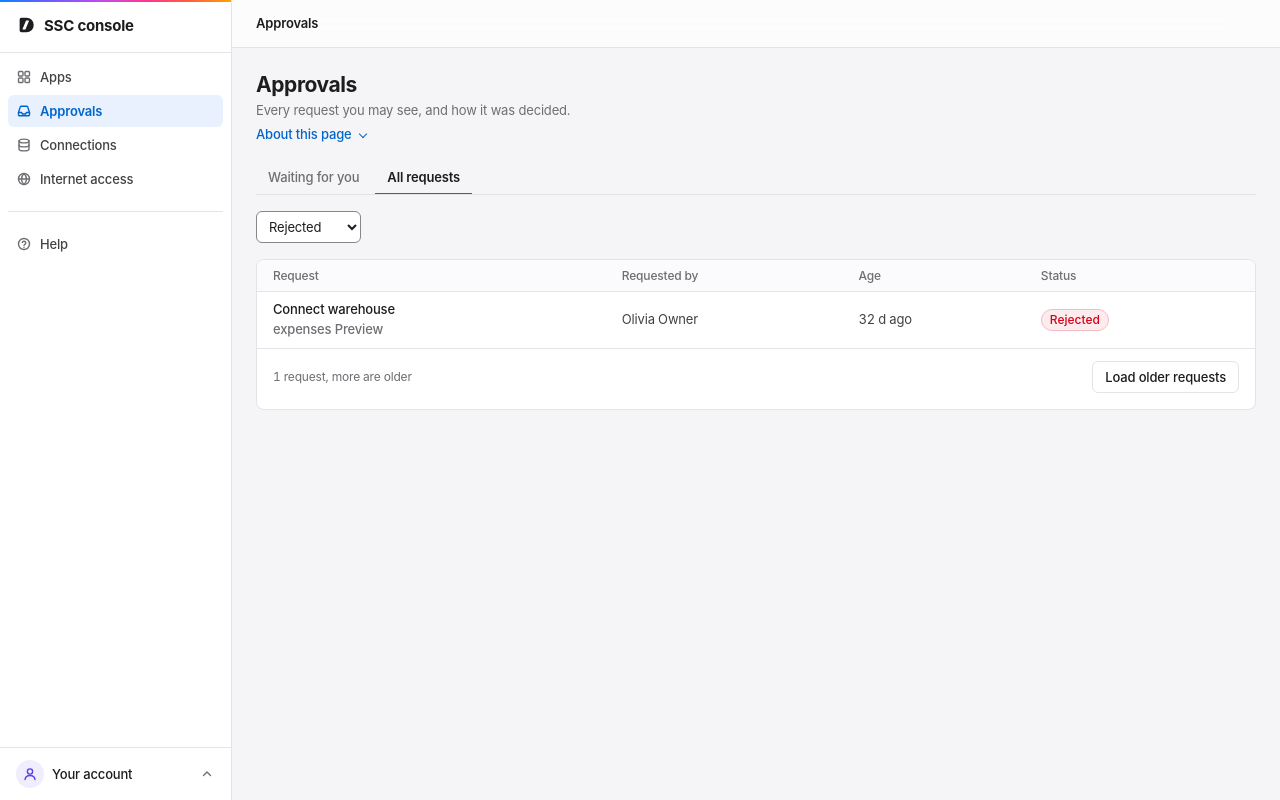
Test: approvals inbox › loads older requests with the cursor the API returned
Expected: the text "1 request, more are older" is shown, left=273, top=368, right=412, bottom=386
What coordinates should you click on to do the following:
click the button "Load older requests"
I would click on:
 (1166, 377)
Its box is left=1092, top=361, right=1239, bottom=393.
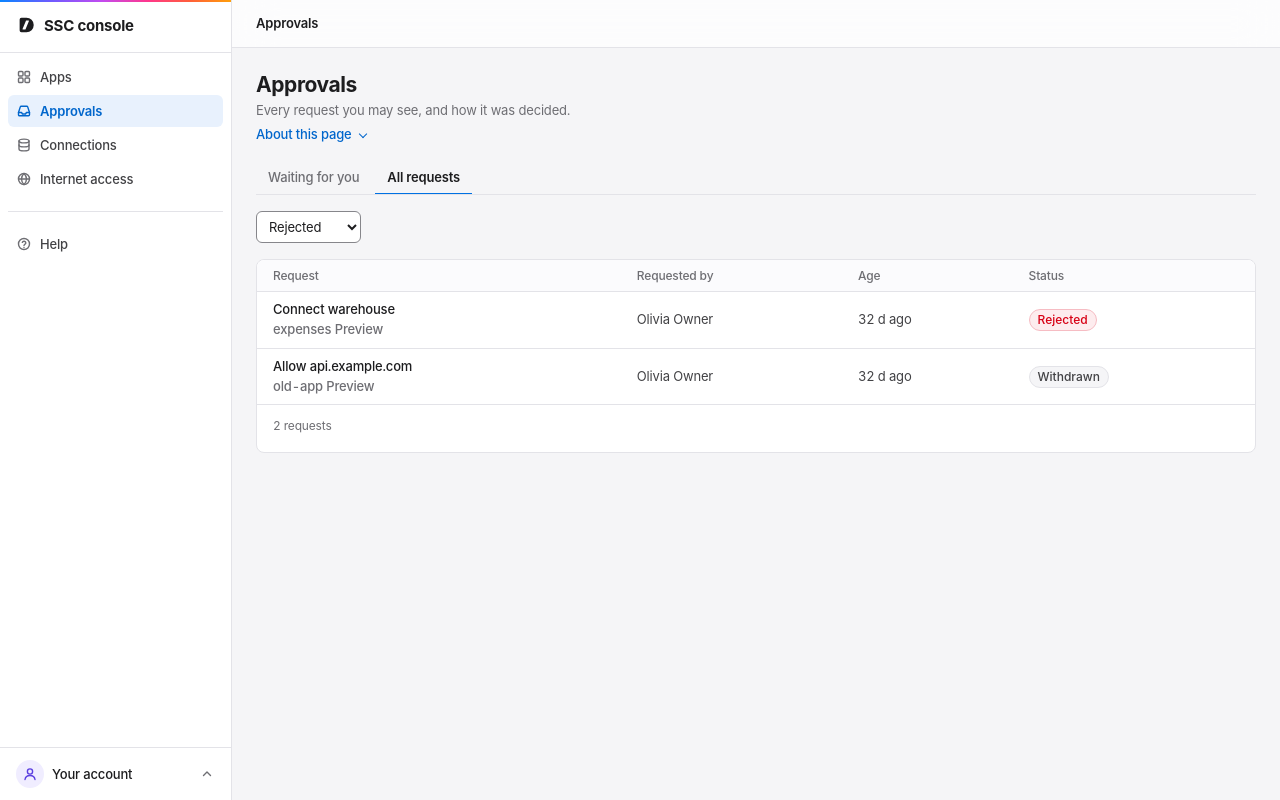
Now the text "2 requests" is shown, box left=273, top=417, right=332, bottom=436
Now the button "Load older requests" is gone
